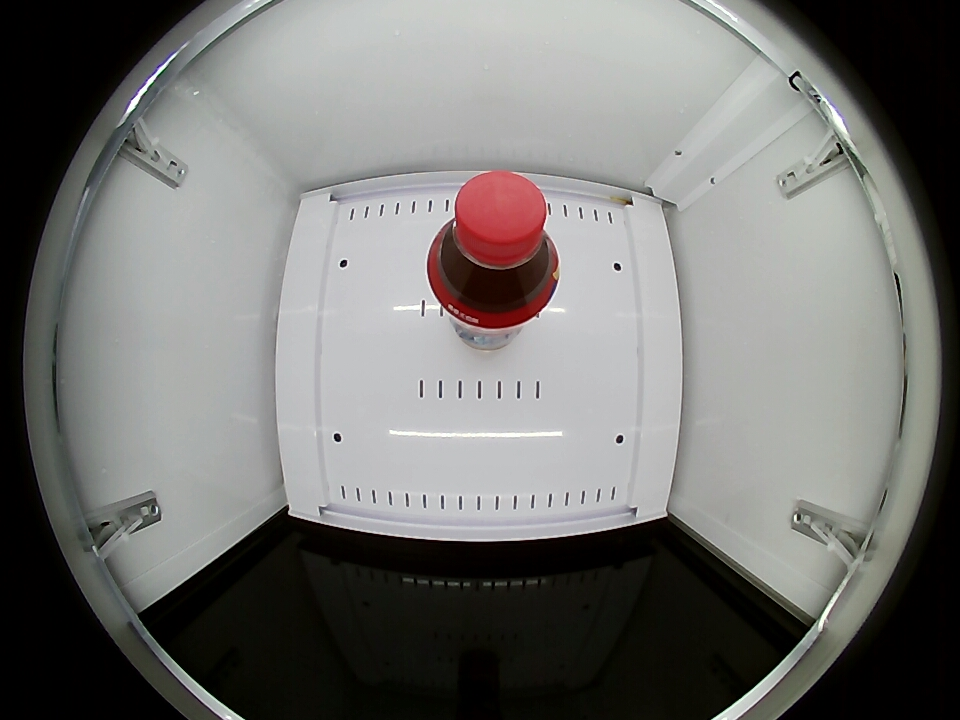binghongcha: (427, 171, 560, 327)
